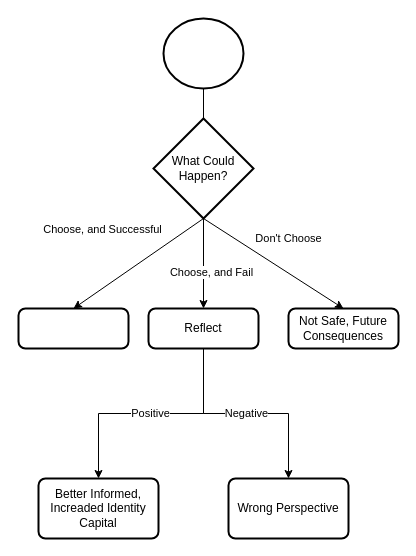
The diagram is 416 pixels wide and 556 high, and some of its shapes have lost their labels. Each missing label, with the centre of its shape:
"Choice to Make" belongs at (203,53).
"Success" belongs at (73,328).
